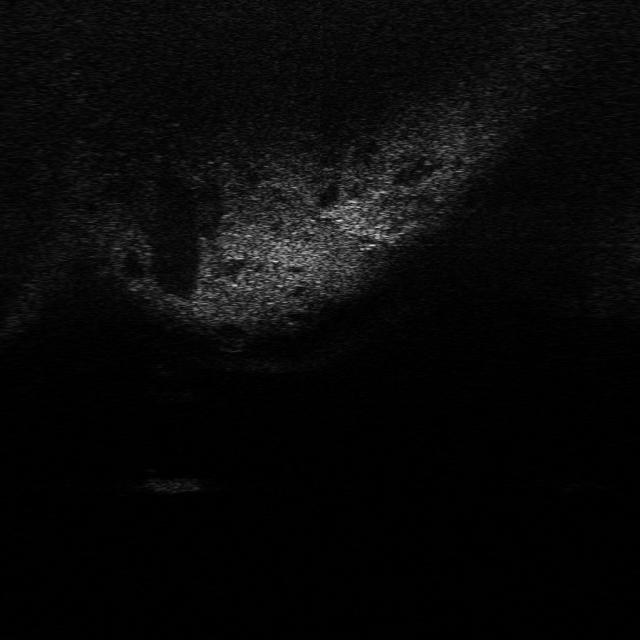cube: (138, 474, 207, 494)
